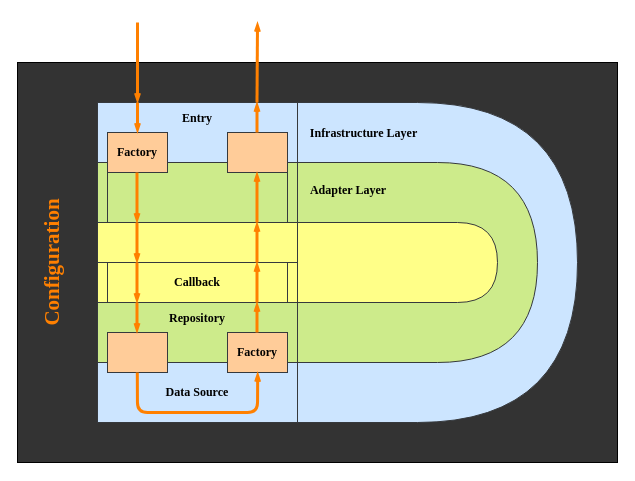
Image size: 635x481. Some labels were removed from this diagram. The centre of each missing label's shape, as x and y in pixels:
DAO/DTO Factory: (x=137, y=352)
DTO Factory: (x=257, y=152)
Enterprise and Application Layer: (x=397, y=262)
Service: (x=197, y=192)
Use Case: (x=197, y=242)
